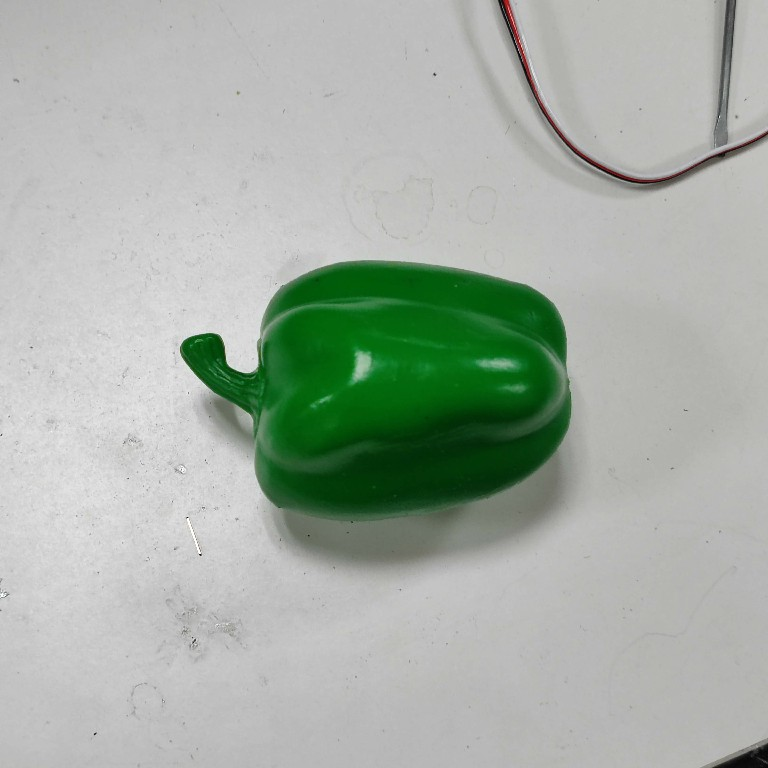fruit_pepper: (175, 256, 577, 526)
